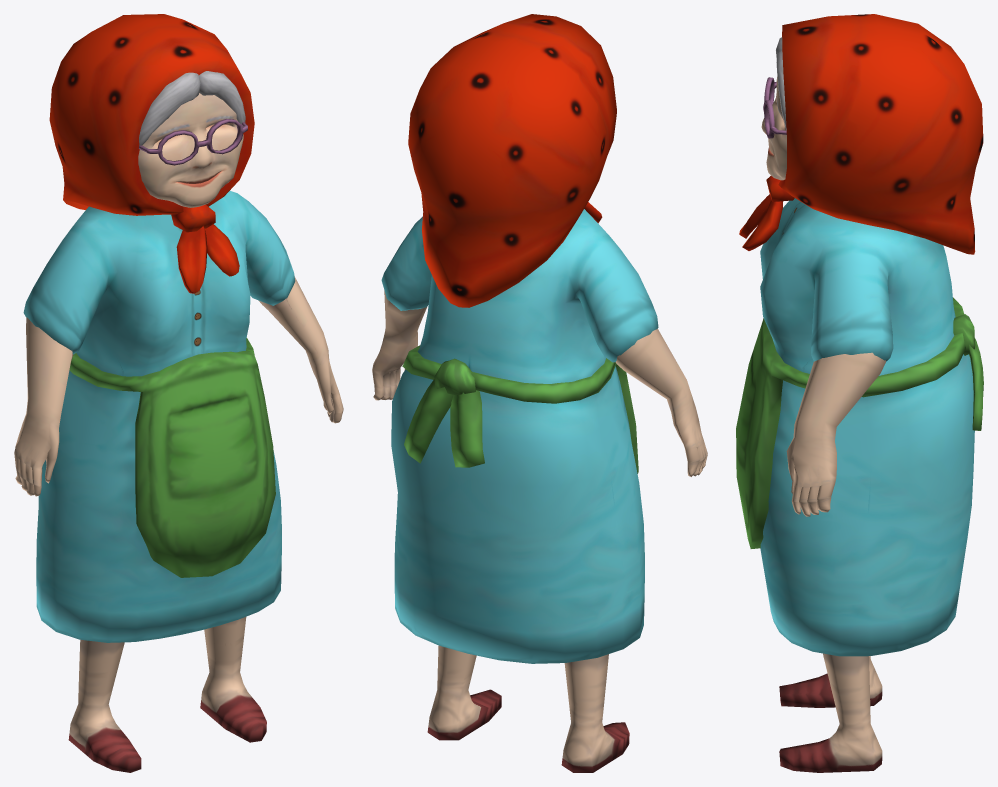
File: grenny.gltf
3 views of the same model, side by side, from view 1: azimuth 30°, elevation 25°; view 2: azimuth 150°, elevation 25°; view 3: azimuth 270°, elevation 25° (orthographic).
Parts seen in each view (by area): view 1: BezierCurve.006; view 2: BezierCurve.006; view 3: BezierCurve.006.
Boxes of the visible parts, x1,y1,x2,y2 form: BezierCurve.006: (14,14,343,772); BezierCurve.006: (372,14,707,772); BezierCurve.006: (736,14,983,772).
Bounding box in the file's own units: 0.1532 × 0.3214 × 0.1019.
Materials: 1 (1 with a texture image).
